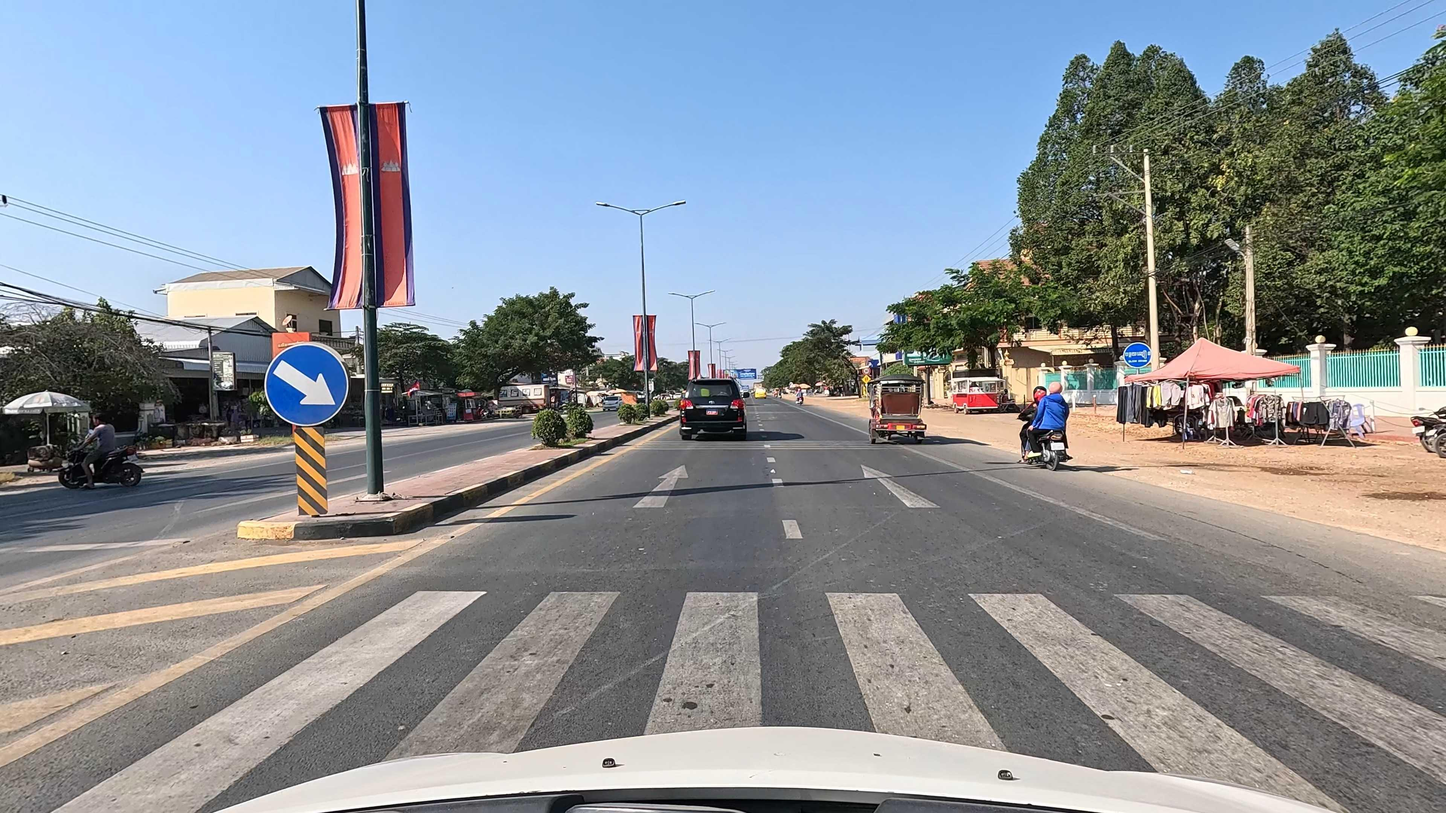keep_right: (262, 339, 350, 428)
school_zone: (861, 374, 872, 385)
slow_down: (1122, 342, 1155, 368)
speed_limit_30: (862, 367, 871, 376)
